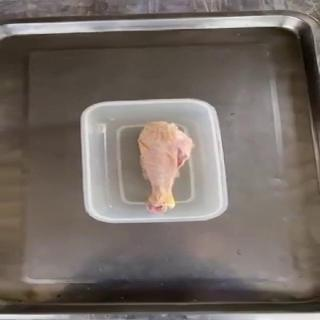Ayam: (137, 121, 196, 215)
